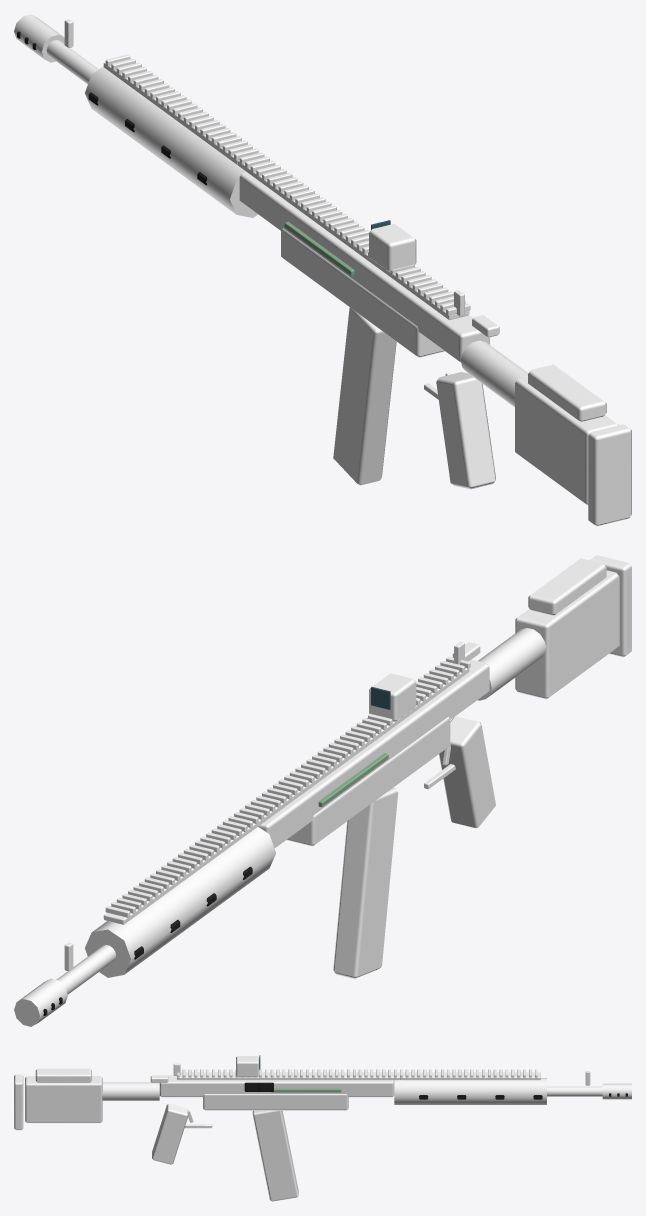
Rendered from kestrel.glb.
The picture shows the model from 3 angles, top to bottom: view 1: azimuth 30°, elevation 25°; view 2: azimuth 150°, elevation 25°; view 3: azimuth 270°, elevation 25°; orthographic projection. The views are drawn at different scales.
Size of the model in its own units: 0.05 by 0.2665 by 1.05.
Materials: 5 (1 with a texture image).
